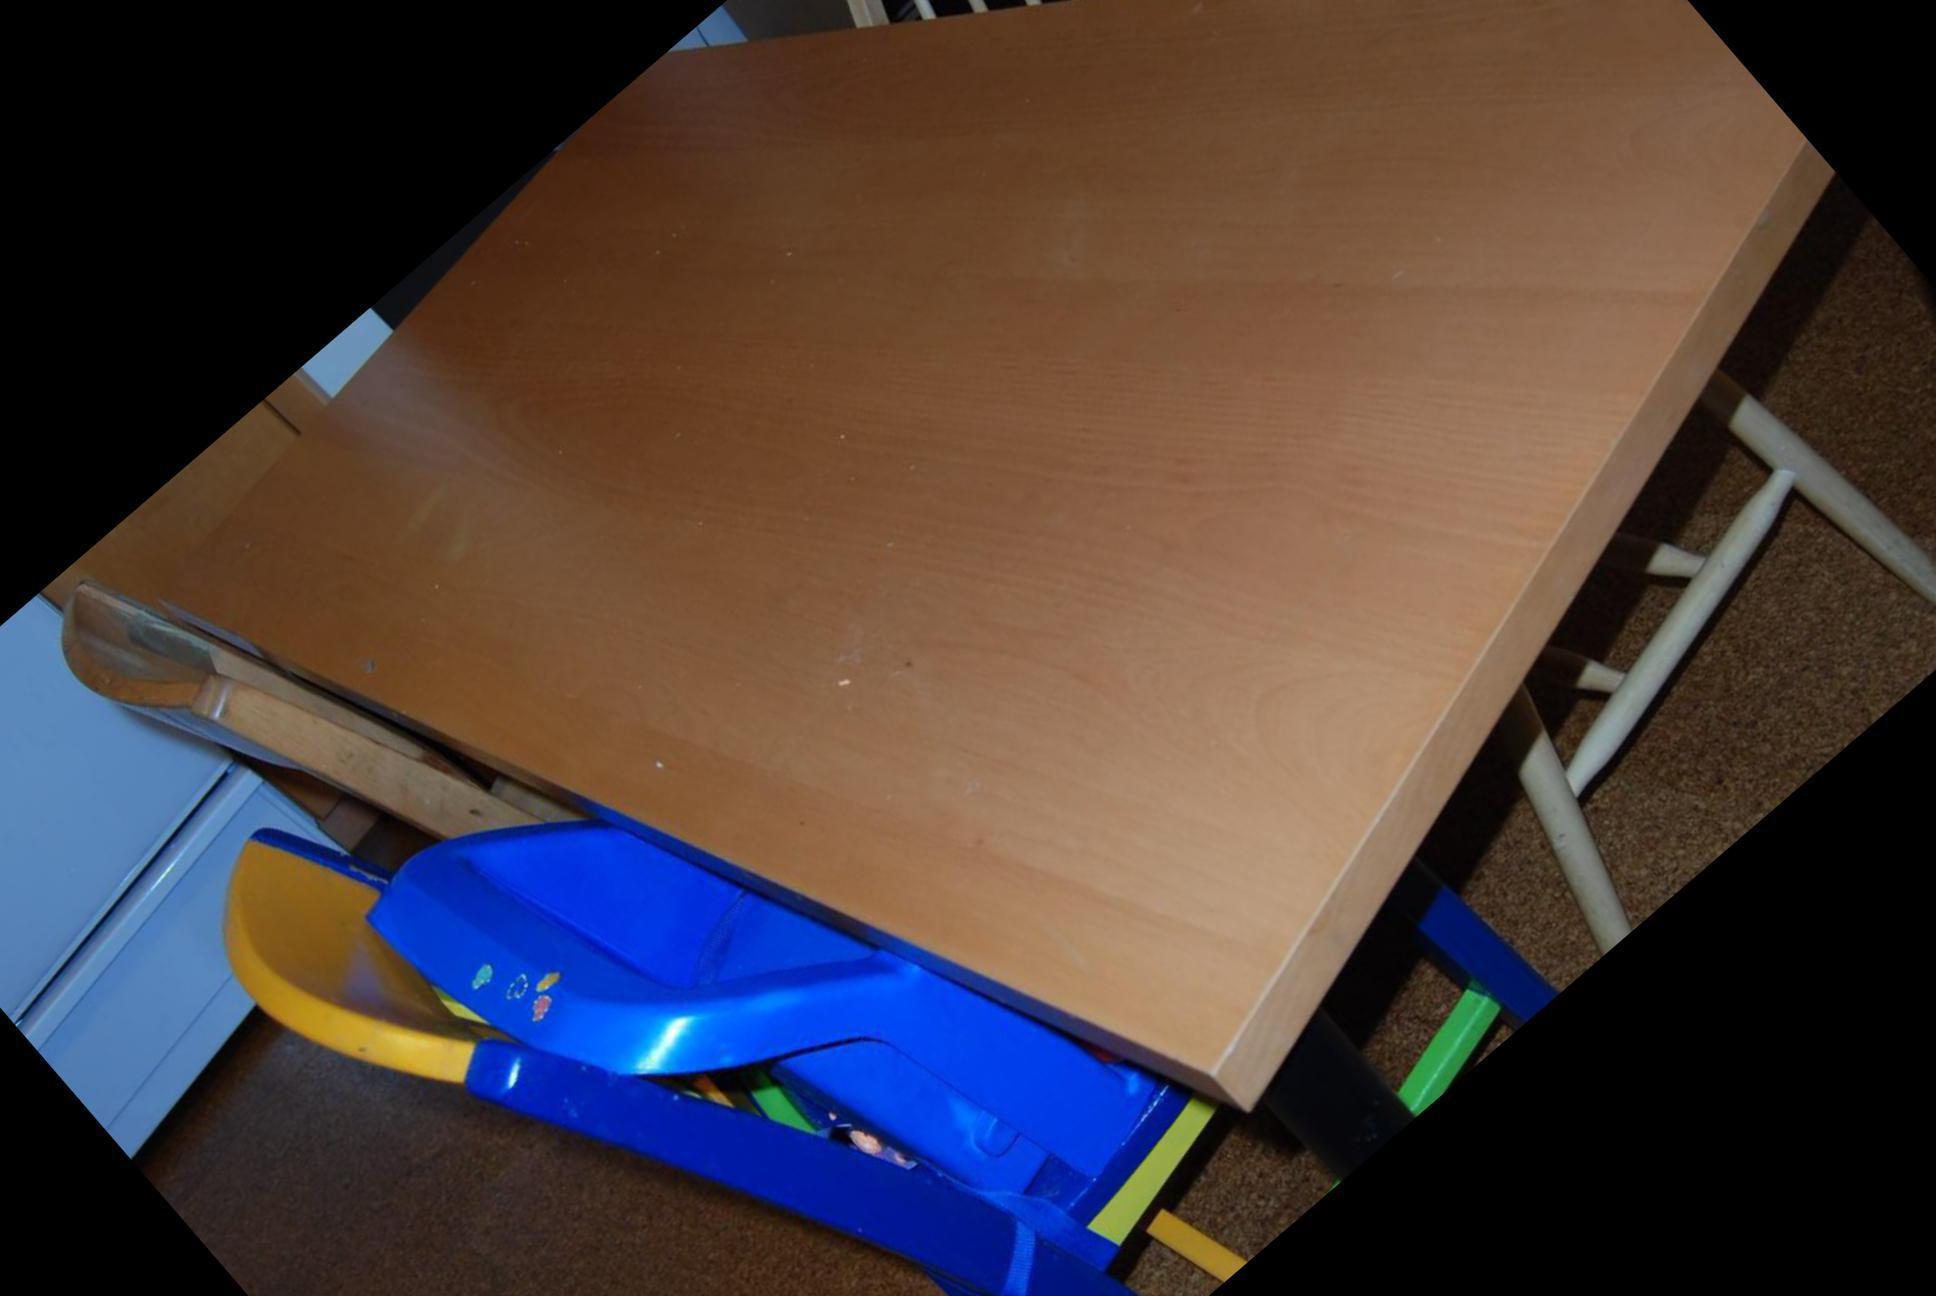Electrodomestico: (0, 421, 406, 1296)
